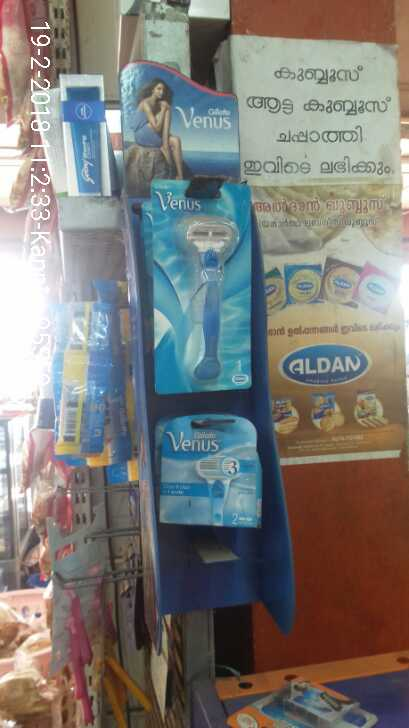beauty: (142, 177, 253, 400), (153, 415, 264, 537), (51, 352, 107, 461)
